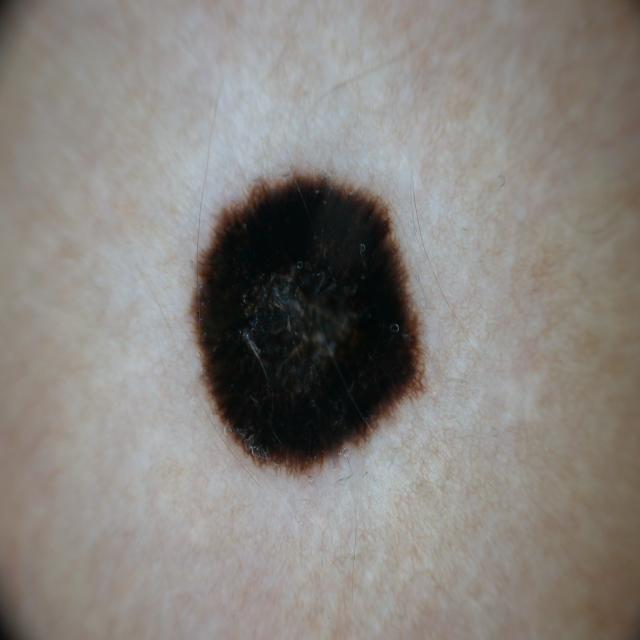Skin-Cancer Nevus: (110, 74, 526, 532)
